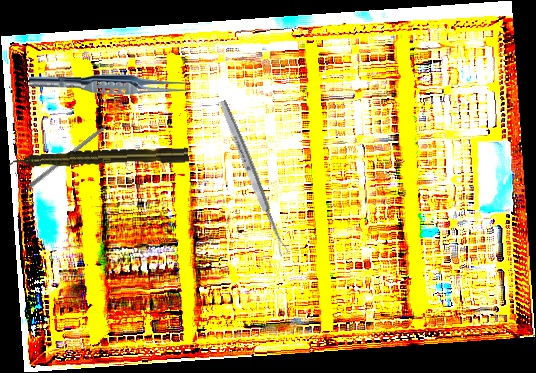Handpiece: (8, 146, 189, 170)
Pusher: (28, 114, 121, 190)
Surgical Spoon: (217, 98, 290, 258)
Tissue Forceps: (28, 72, 191, 97)
